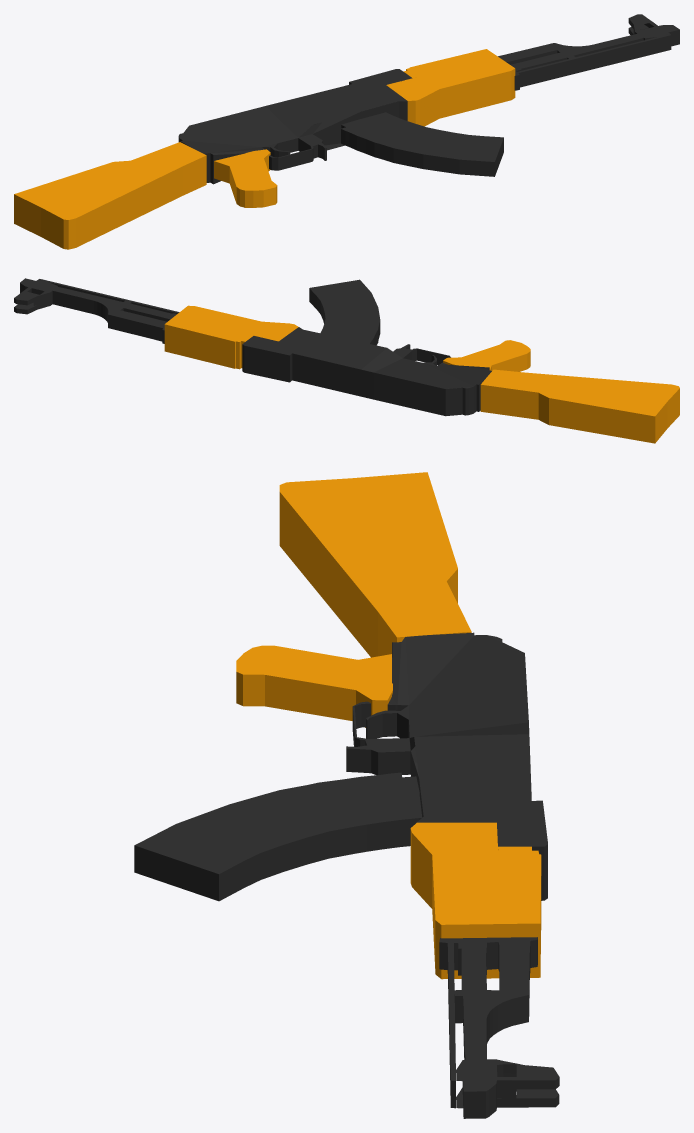
File: ak473dloaded.fbx
The picture shows the model from 3 angles, top to bottom: view 1: azimuth 30°, elevation 25°; view 2: azimuth 150°, elevation 25°; view 3: azimuth 270°, elevation 25°; orthographic projection. The views are drawn at different scales.
Visible parts, largest first — view 1: coronha, corpo, pente, frente, cano, cabo; view 2: corpo, coronha, frente, cano, pente, cabo; view 3: corpo, coronha, pente, frente, cano, cabo.
Part boxes in pixels (x1,y1,x2,y2): coronha: (14, 142, 206, 249); corpo: (178, 69, 412, 184); pente: (341, 112, 503, 176); frente: (386, 49, 515, 126); cano: (498, 14, 679, 90); cabo: (214, 149, 277, 207); corpo: (242, 327, 491, 416); coronha: (480, 369, 679, 443); frente: (164, 305, 298, 369); cano: (14, 278, 179, 343); pente: (309, 279, 380, 345); cabo: (443, 340, 530, 371); corpo: (346, 632, 547, 900); coronha: (279, 472, 471, 657); pente: (134, 772, 422, 901); frente: (410, 822, 541, 979); cano: (439, 937, 559, 1118); cabo: (236, 645, 392, 727).
Bounding box in the file's own units: 479 × 20 × 142.
